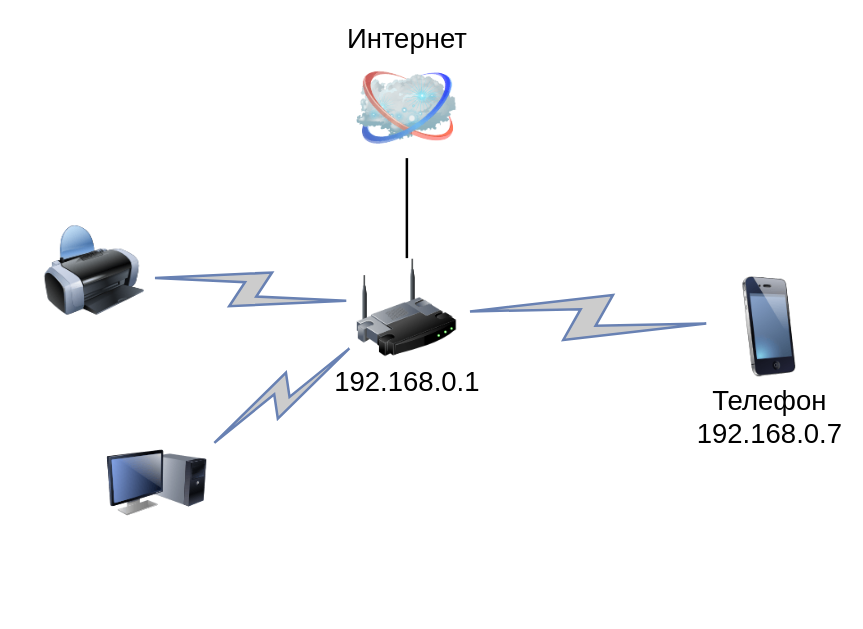
Some shapes in this 863 by 629 pixel diagram are drawn without their labels. Each missing label, with the centre of its shape:
"ПК 192.168.0.6" goes at point 156,482.
"Принтер 192.168.0.5" goes at point 94,270.
